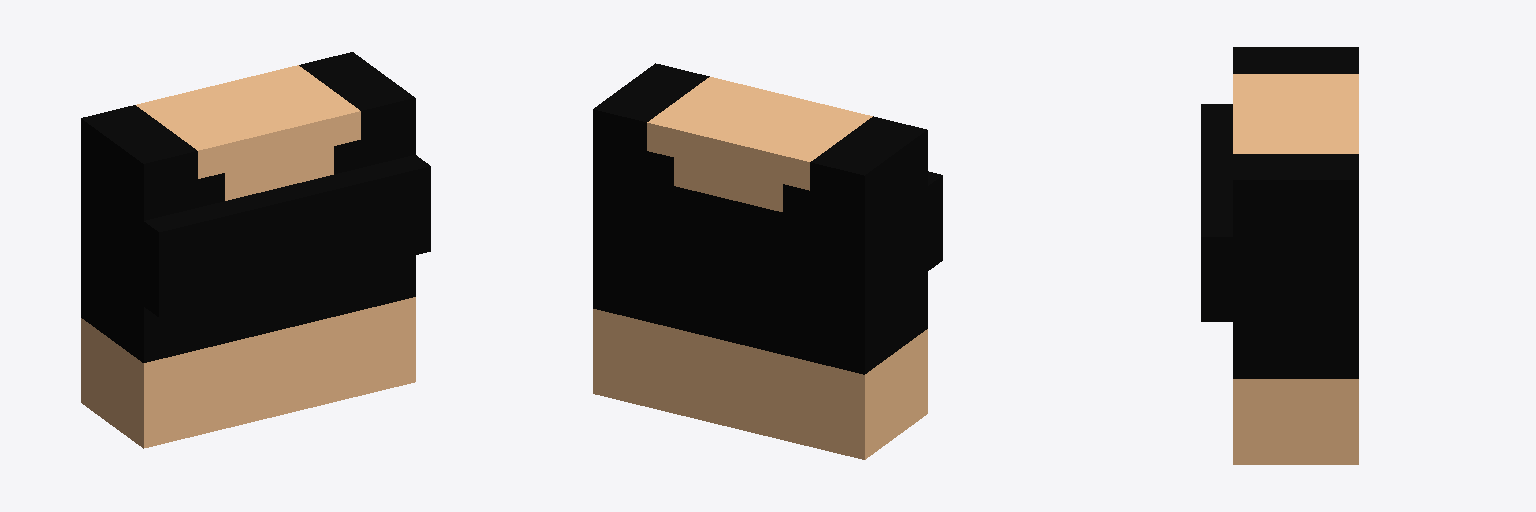
The picture shows the model from 3 angles: view 1: azimuth 30°, elevation 25°; view 2: azimuth 150°, elevation 25°; view 3: azimuth 270°, elevation 25°; orthographic projection.
Visible parts, largest first — view 1: object 1; view 2: object 1; view 3: object 1.
Boxes of the visible parts, x1=… form: object 1: x1=81, y1=52, x2=430, y2=448; object 1: x1=593, y1=63, x2=942, y2=459; object 1: x1=1201, y1=47, x2=1358, y2=464.
Bounding box in the file's own units: 1 × 1 × 0.5.
Materials: 1 (1 with a texture image).